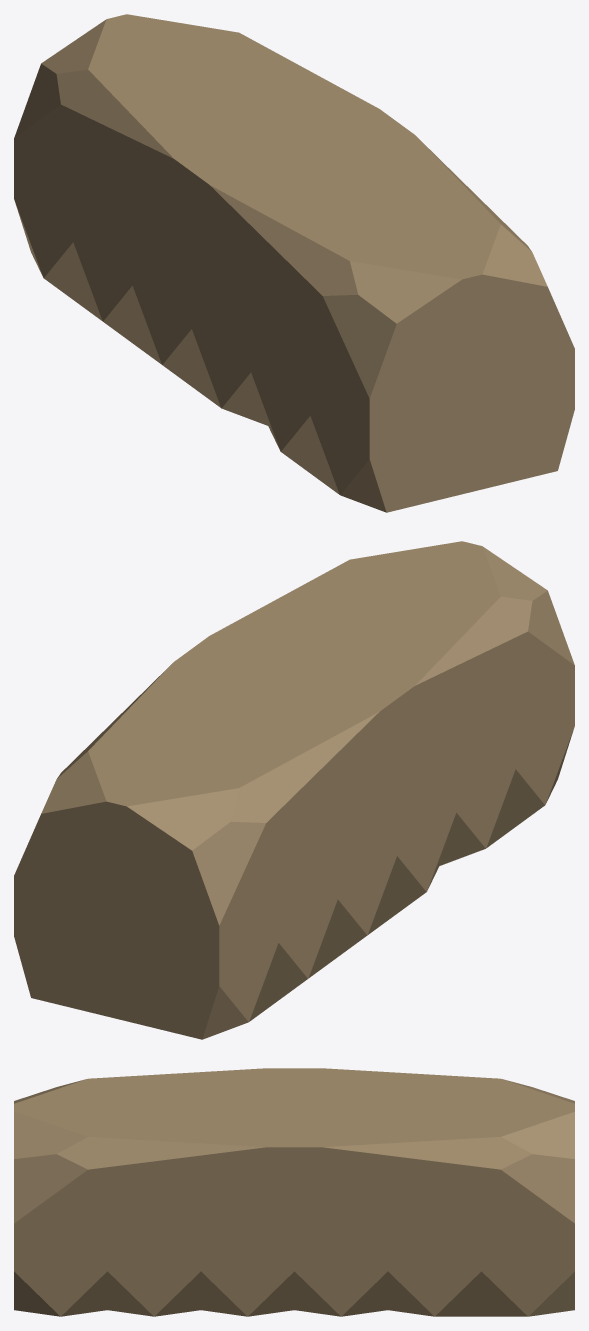
Rendered from egg karton.fbx.
The picture shows the model from 3 angles, top to bottom: view 1: azimuth 30°, elevation 25°; view 2: azimuth 150°, elevation 25°; view 3: azimuth 270°, elevation 25°; orthographic projection. The views are drawn at different scales.
Visible parts, largest first — view 1: Cube; view 2: Cube; view 3: Cube.
Boxes of the visible parts, <box> form: Cube: <box>14,14,574,512</box>; Cube: <box>14,541,574,1039</box>; Cube: <box>14,1068,574,1316</box>.
Size of the model in its own units: 10 by 10 by 30.
